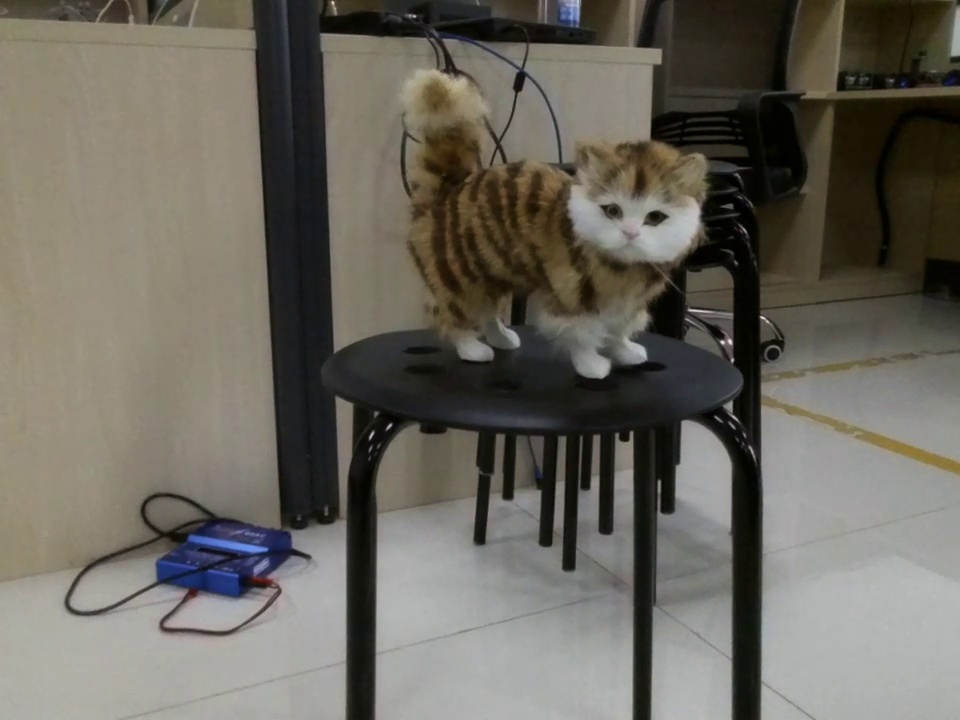cat: (389, 53, 707, 383)
